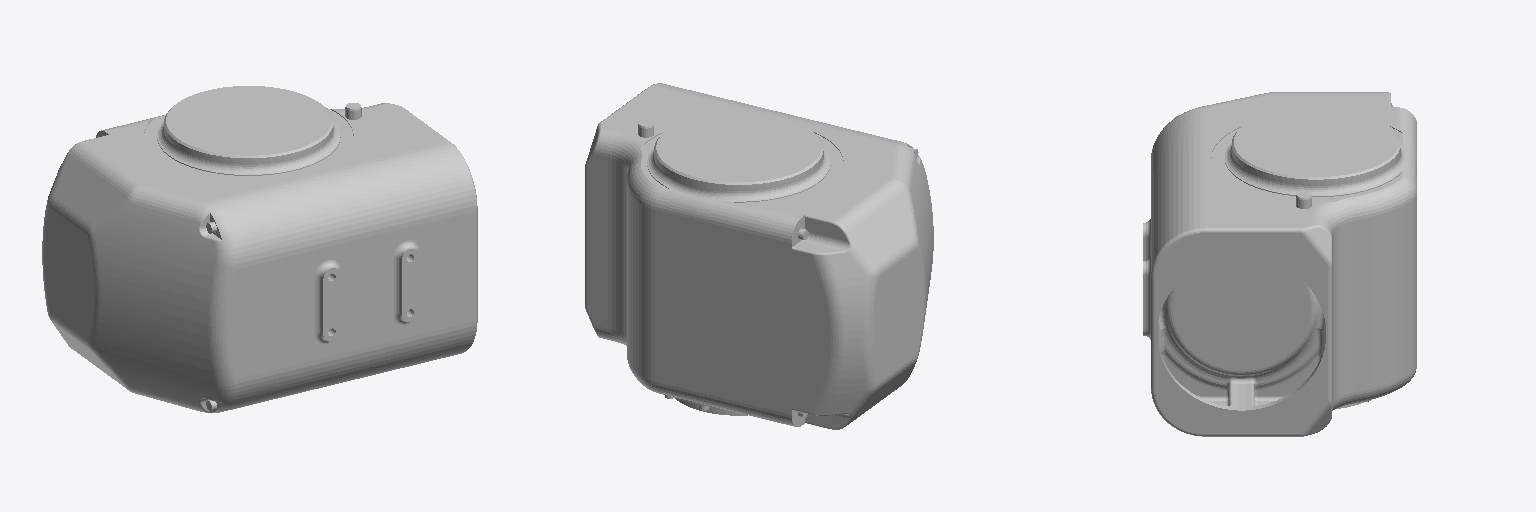
3 views of the same model, side by side, from view 1: azimuth 30°, elevation 25°; view 2: azimuth 150°, elevation 25°; view 3: azimuth 270°, elevation 25° (orthographic).
Parts seen in each view (by area): view 1: Body1; view 2: Body1; view 3: Body1.
Part boxes in pixels (left/top/right/bottom): Body1: left=42, top=86, right=477, bottom=412; Body1: left=585, top=83, right=933, bottom=429; Body1: left=1143, top=92, right=1416, bottom=436.
Size of the model in its own units: 18.15 by 13.05 by 13.6.